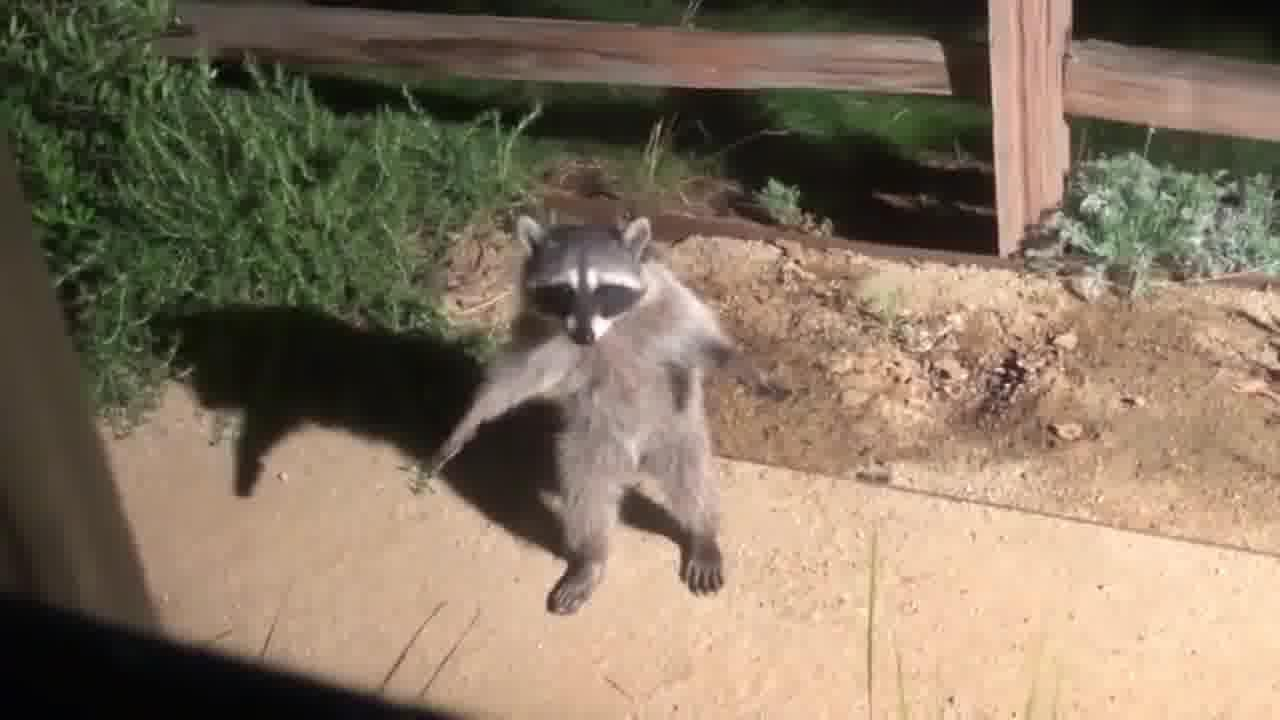raccoon: (407, 218, 798, 623)
